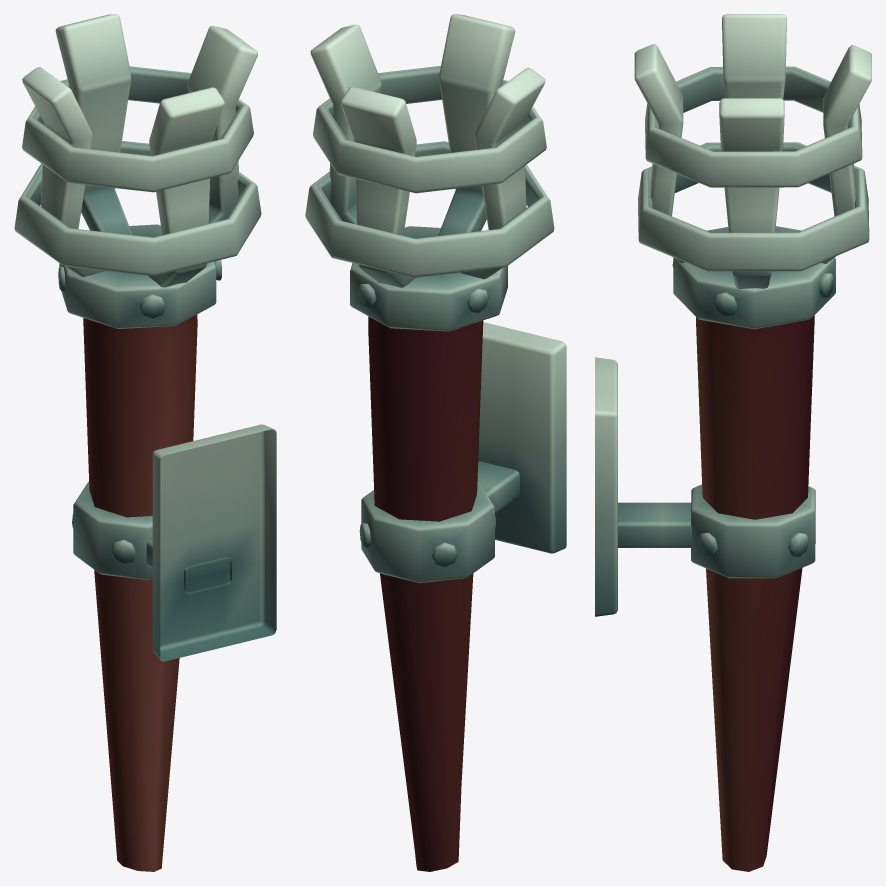
The model's file is SM_irontorch_003.fbx.
3 views of the same model, side by side, from view 1: azimuth 30°, elevation 25°; view 2: azimuth 150°, elevation 25°; view 3: azimuth 270°, elevation 25° (orthographic).
Parts seen in each view (by area): view 1: SM_irontorch_003; view 2: SM_irontorch_003; view 3: SM_irontorch_003.
Part boxes in pixels (box(x1,y1,x2,y2)): SM_irontorch_003: box(14, 14, 276, 871); SM_irontorch_003: box(305, 14, 566, 871); SM_irontorch_003: box(595, 14, 871, 871).
Size of the model in its own units: 28.79 by 108 by 33.58.
